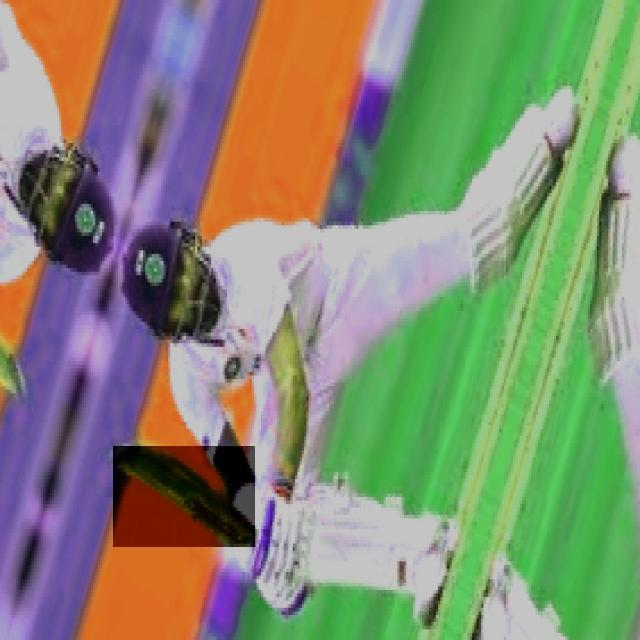bat: (115, 446, 256, 545)
